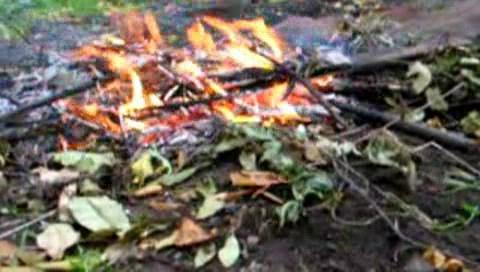fire: (209, 22, 269, 79)
